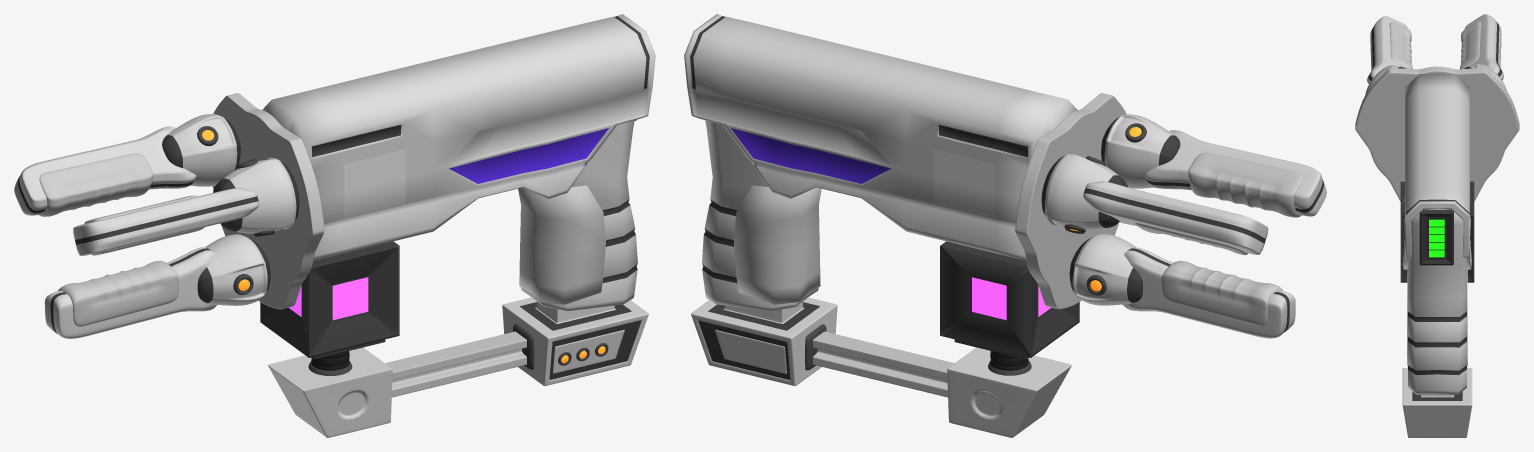
File: lift-buddy.fbx
3 renders of one model, left to right at view 1: azimuth 30°, elevation 25°; view 2: azimuth 150°, elevation 25°; view 3: azimuth 270°, elevation 25°, orthographic. The views are drawn at different scales.
Visible parts, largest first — view 1: Top, Bottom, Mass, Grip, Drillplate, Body, Cube, Rod, Cube.003, Cube.005, Cube.004, Cube.002 (+4 smaller); view 2: Top, Bottom, Mass, Drillplate, Grip, Body, Cube.004, Rod, Cube.001, Cube.003, Cube.002, Cube (+4 smaller); view 3: Top, Drillplate, Body, Bottom, Screen, Cube.004, Cube, Mass, Cube.001, Cube.005, Grip, Cylinder.003.
Boxes of the visible parts, box(x1,y1,x2,y2) form: Top: box(262, 14, 655, 260); Bottom: box(268, 297, 648, 437); Mass: box(260, 241, 399, 359); Grip: box(518, 185, 605, 304); Drillplate: box(212, 93, 324, 309); Body: box(521, 120, 637, 310); Cube: box(73, 188, 259, 255); Rod: box(385, 331, 526, 397); Cube.003: box(58, 260, 178, 326); Cube.005: box(38, 153, 153, 216); Cube.004: box(14, 126, 196, 215); Cube.002: box(44, 247, 216, 338); Top: box(684, 14, 1077, 260); Bottom: box(691, 297, 1071, 437); Mass: box(940, 241, 1079, 359); Drillplate: box(1015, 93, 1126, 309); Grip: box(734, 185, 821, 304); Body: box(702, 120, 818, 310); Cube.004: box(1083, 181, 1268, 254); Rod: box(813, 331, 954, 397); Cube.001: box(1188, 152, 1302, 217); Cube.003: box(1161, 260, 1282, 325); Cube.002: box(1123, 247, 1295, 338); Cube: box(1144, 130, 1326, 216); Top: box(1403, 73, 1471, 269); Drillplate: box(1355, 66, 1519, 200); Body: box(1408, 208, 1466, 394); Bottom: box(1402, 367, 1472, 437); Screen: box(1419, 209, 1453, 265); Cube.004: box(1464, 14, 1503, 80); Cube: box(1367, 16, 1407, 83); Mass: box(1400, 181, 1474, 282); Cube.001: box(1389, 22, 1412, 68); Cube.005: box(1460, 21, 1480, 69); Grip: box(1407, 268, 1467, 365); Cylinder.003: box(1469, 63, 1506, 90).
Bounding box in the file's own units: 189 × 101 × 61.11.
